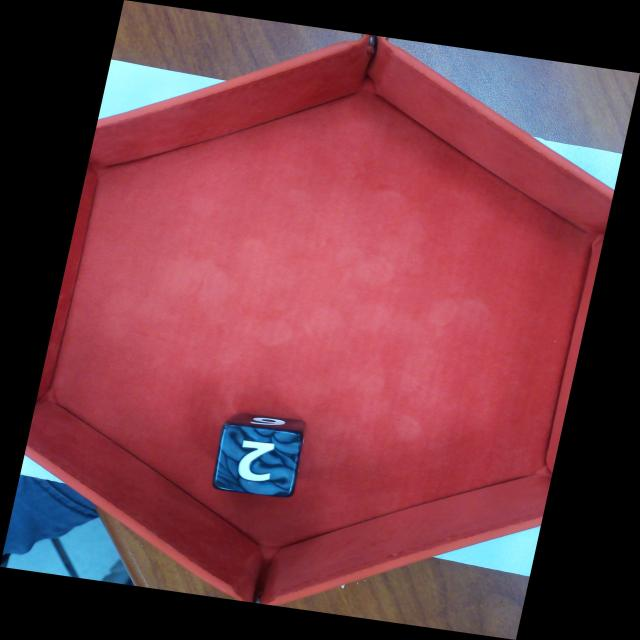dice: (210, 421, 305, 499)
